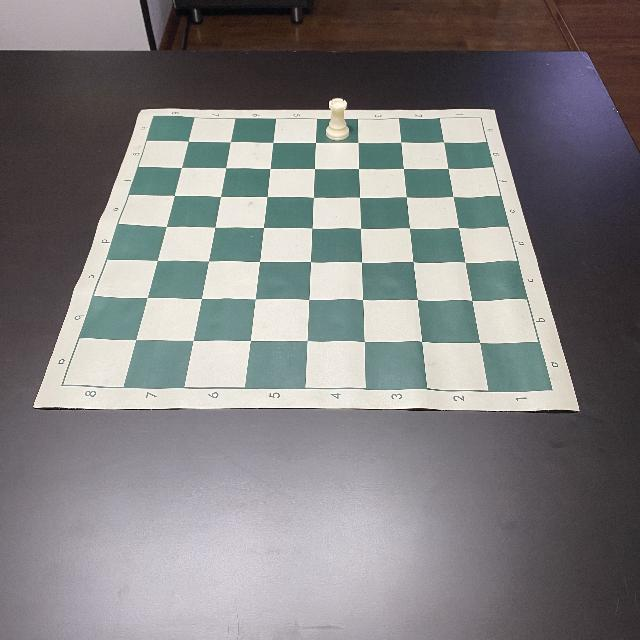board: (35, 108, 581, 412)
white-rook: (326, 99, 348, 140)
